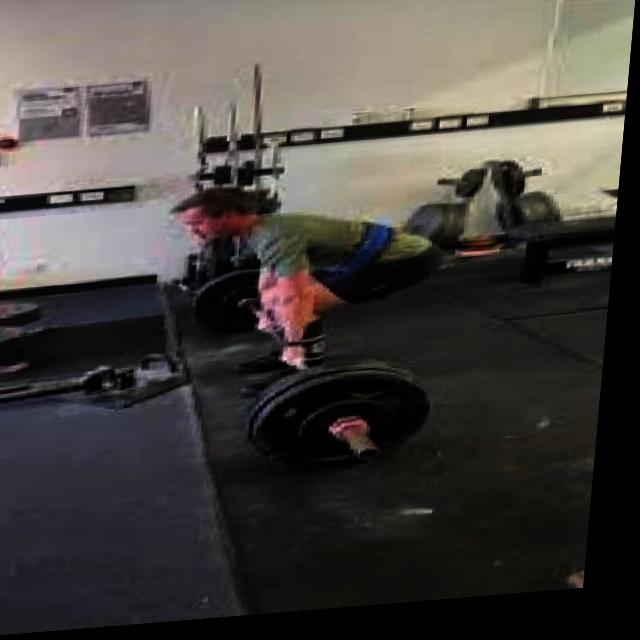barbell: (256, 369, 445, 483)
